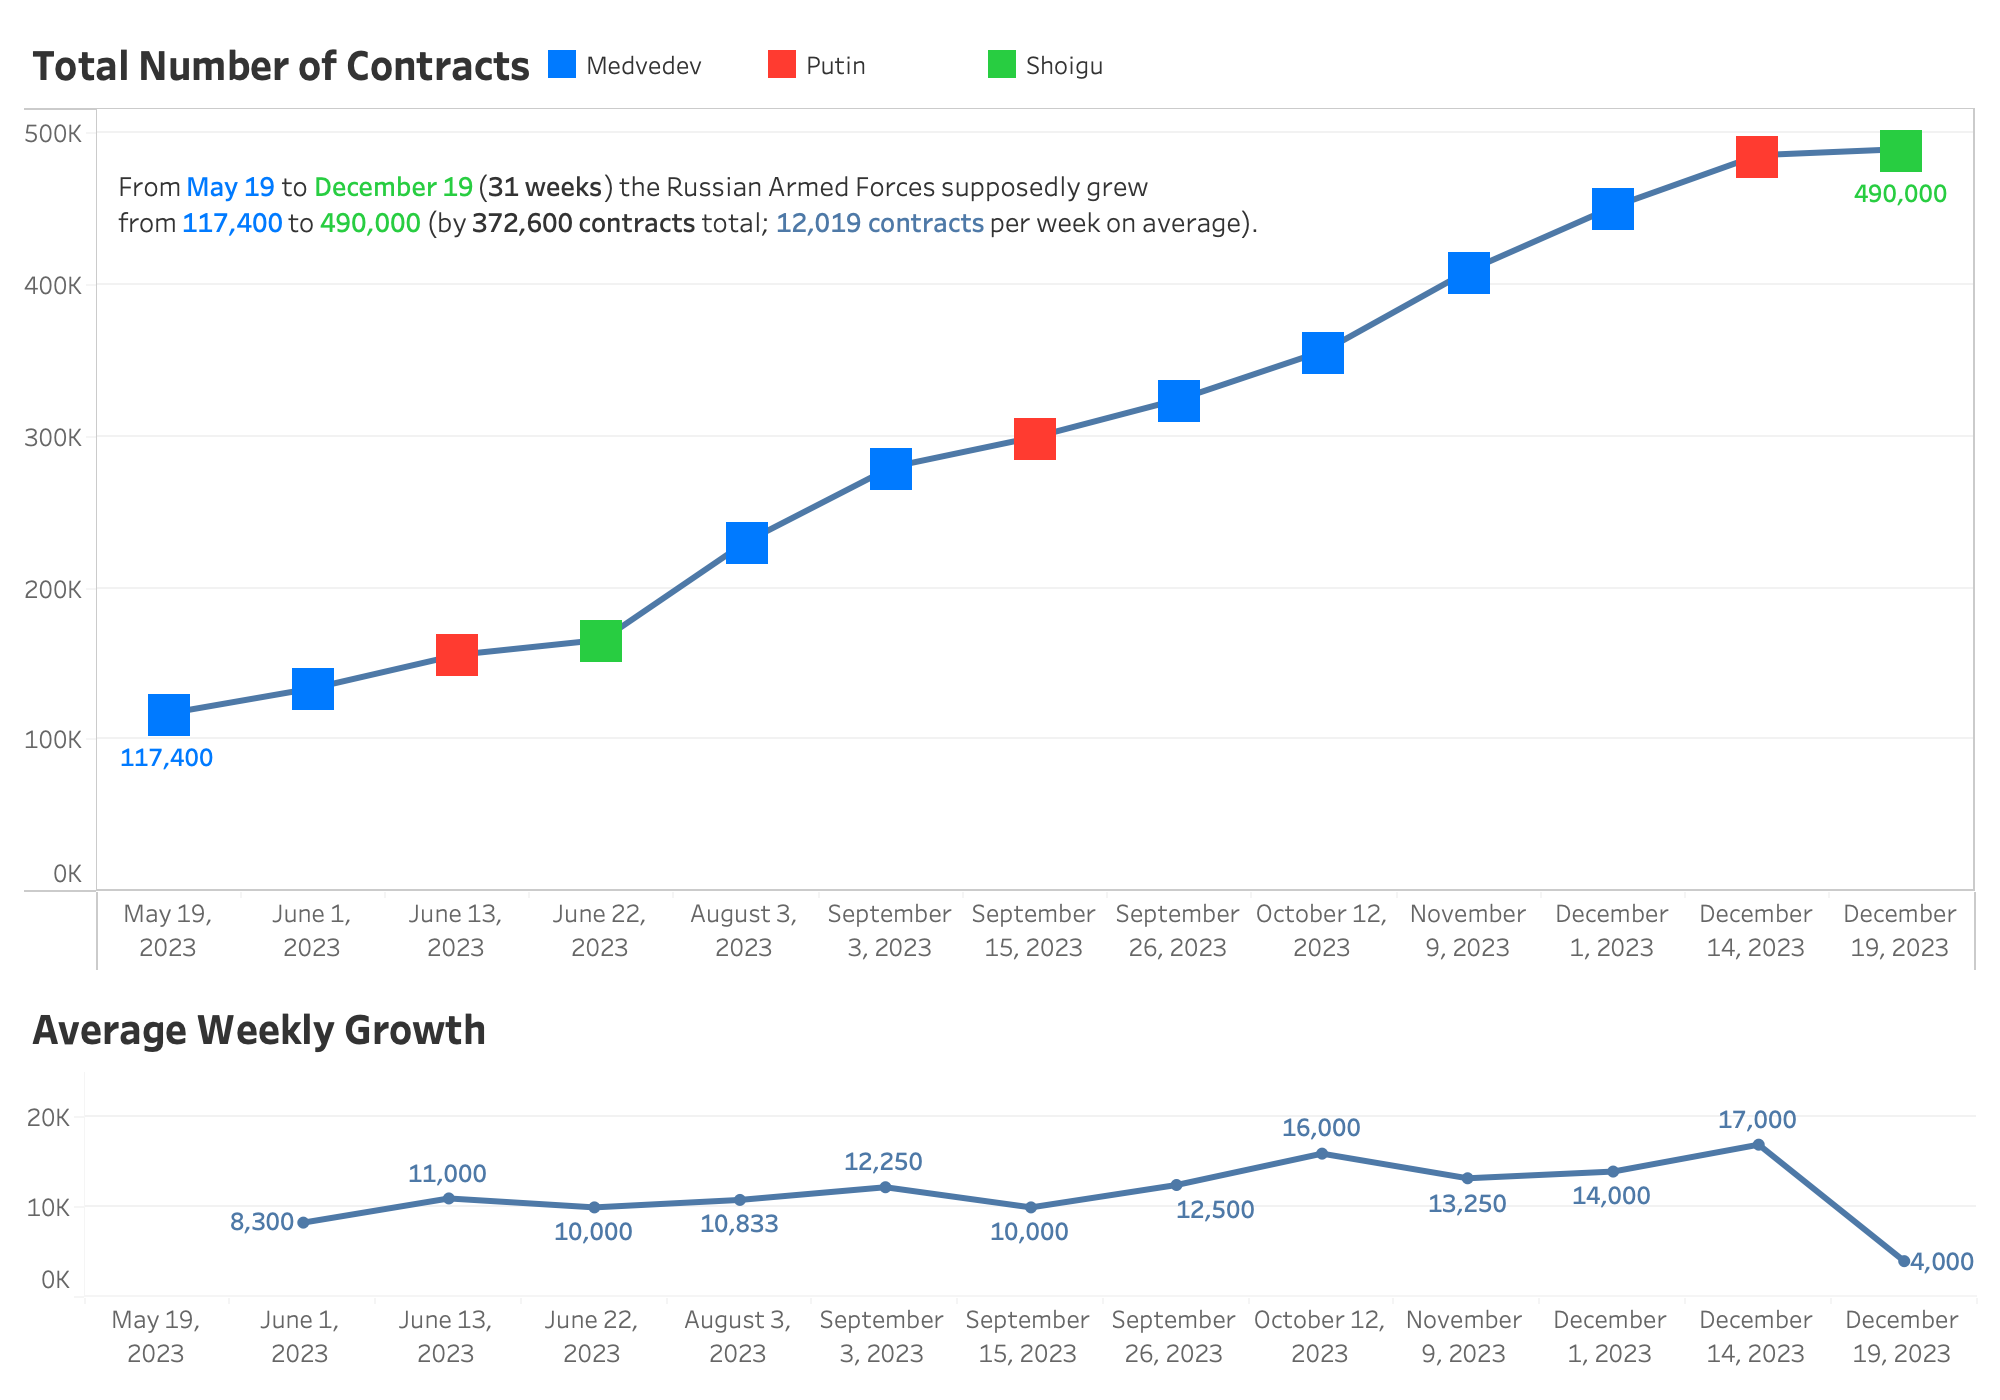

What the dashboard file says about the page in this screenshot:
{"tool":"tableau","page":{"name":"Table 1","canvas":[1000,700],"ordinal":0},"visuals":[{"type":"worksheet","title":"Total Number of Contracts","mark":"Shape","rows":["Number of Contracts","Number of Contracts"],"cols":["Date"],"box":[8,8,984,482]},{"type":"legend","title":"Total Number of Contracts","param":"[federated.1tg6i8g1fuqaun131gk011d8xqjd].[none:Speaker_en:nk]","box":[271,22,371,26]},{"type":"worksheet","title":"Table 1 Text","mark":"Automatic","box":[55,74,587,59]},{"type":"worksheet","title":"Average Weekly Growth","mark":"Line","cols":["Date"],"box":[8,490,984,202]}]}

Visuals, with their boxes in screenshot pixels (x1, y1, x2, y2), scaled from the page's 1000x700 canvas onto the 2000x1400 screenshot:
"Total Number of Contracts" worksheet (Shape marks): <box>16,16,1984,980</box>
"Total Number of Contracts" legend: <box>542,44,1284,96</box>
"Table 1 Text" worksheet: <box>110,148,1284,266</box>
"Average Weekly Growth" worksheet (Line marks): <box>16,980,1984,1384</box>
